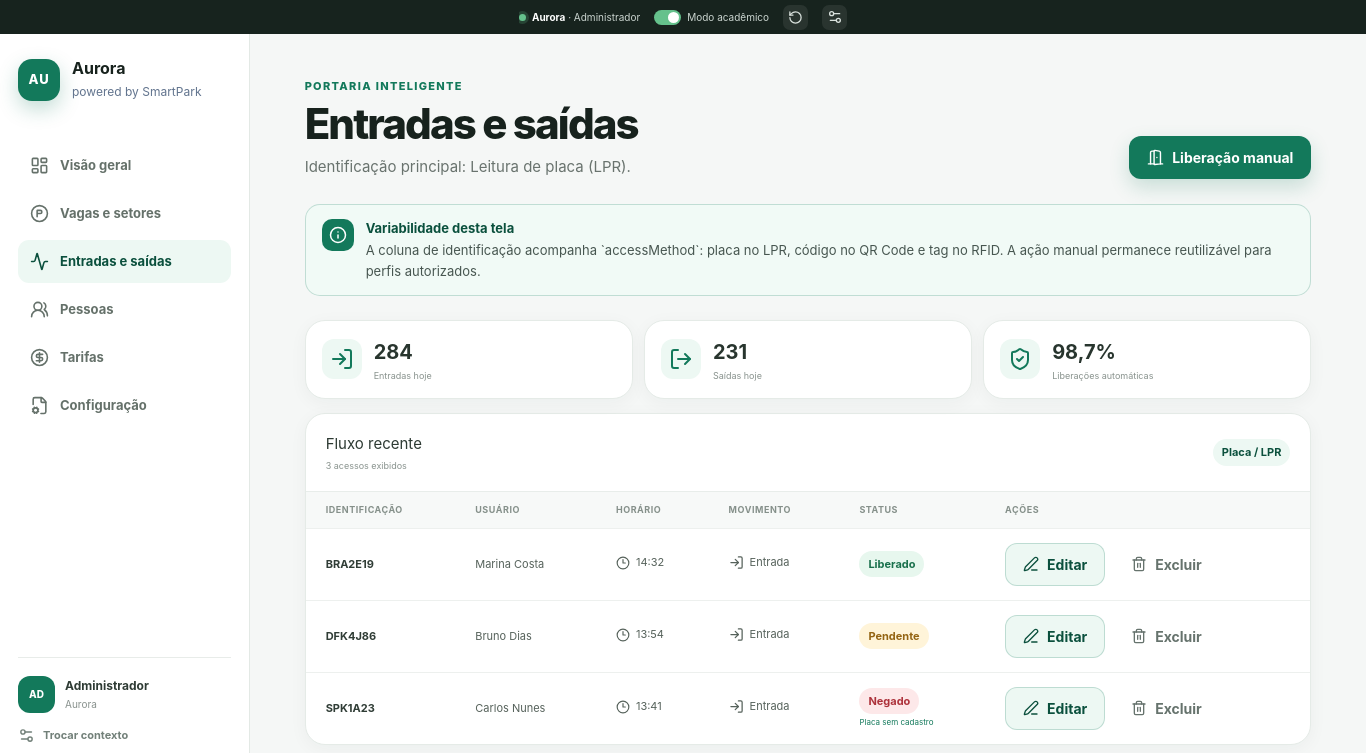
Scenario: acessos (entradas e saídas) › edita um acesso pendente e o nega com motivo
The width and height of the screenshot is (1366, 753).
Click the button with aria-label "Editar acesso de Bruno Dias" at [1055, 636], box [1005,615,1105,658]
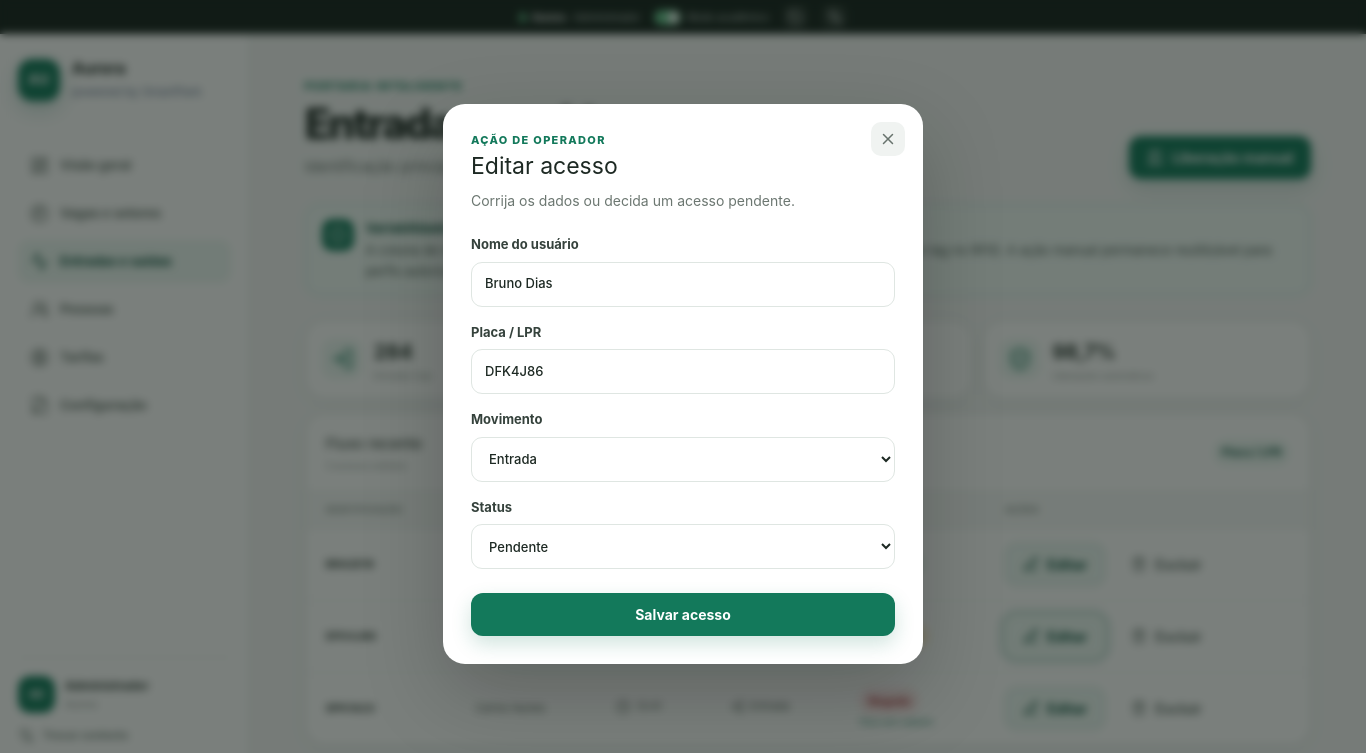
Select "Negado" in the dropdown labelled "Status" at [683, 546], box [471,524,895,569]
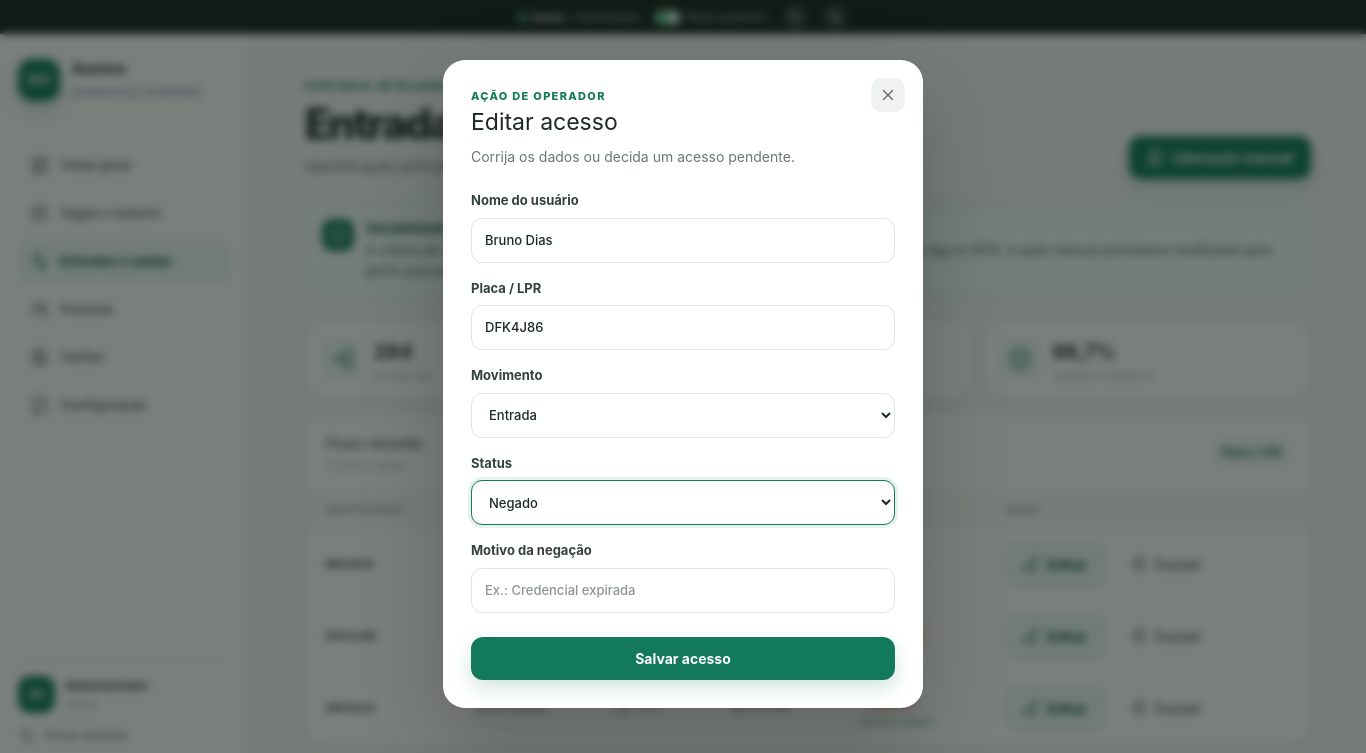
Type "Veículo não autorizado" into the field labelled "Motivo da negação" at [683, 590], box [471,568,895,613]
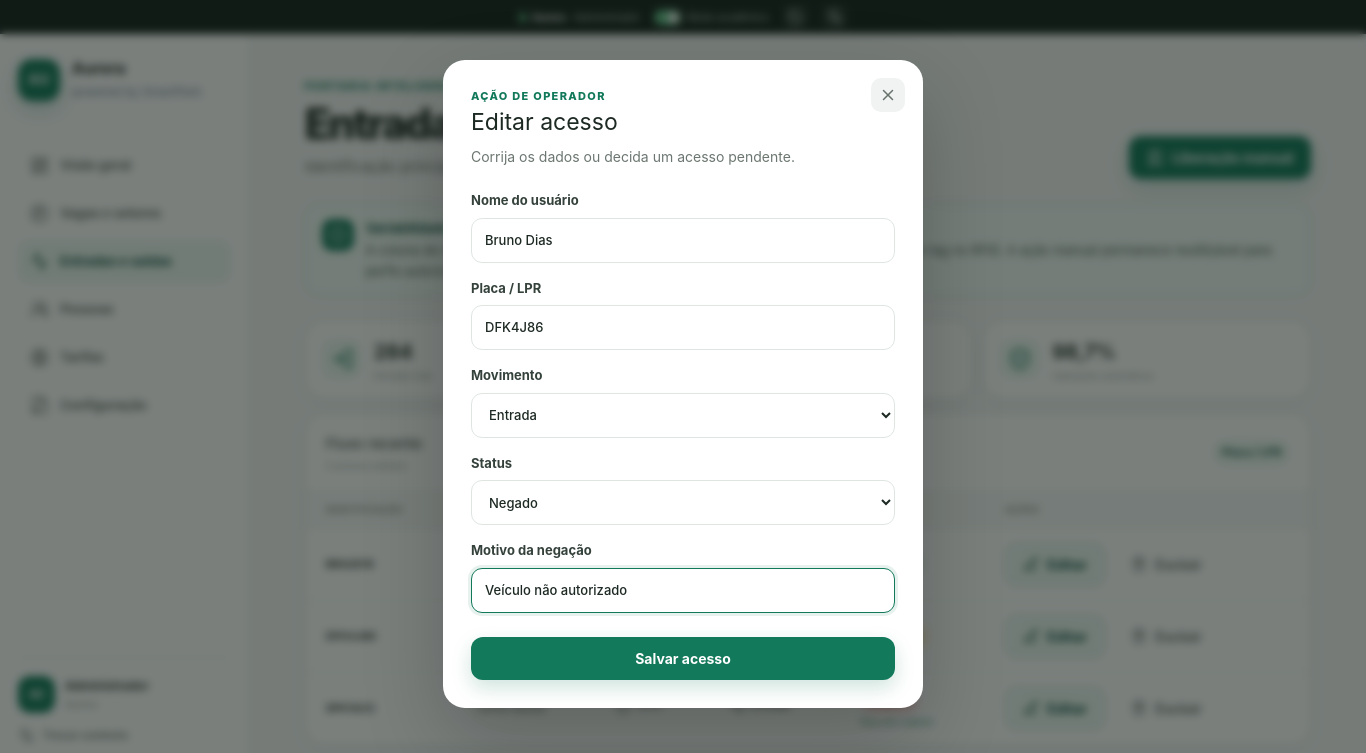
Click the button "Salvar acesso" at [683, 658], box [471,637,895,680]
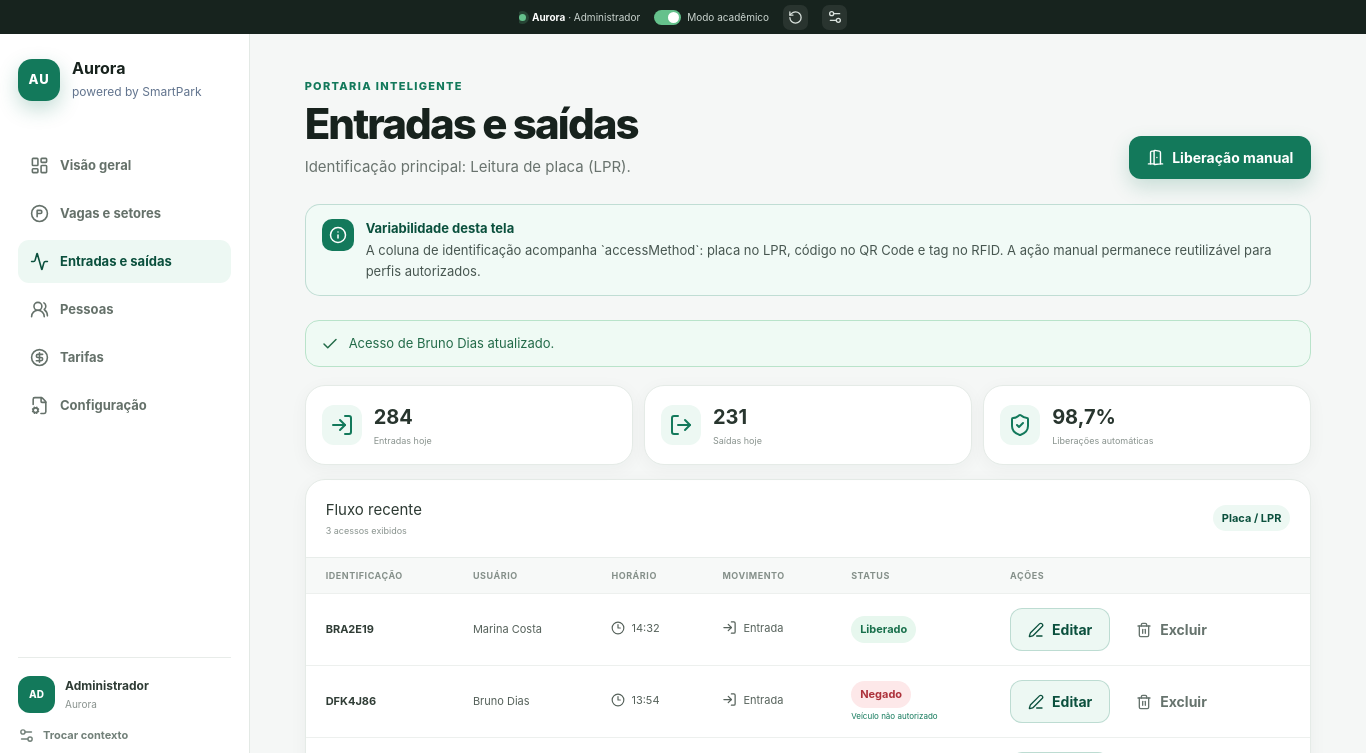
Expected: the text "Acesso de Bruno Dias atualizado." is shown, [349,334,554,353]
Expected: the text "Veículo não autorizado" is shown, [851,711,938,721]
